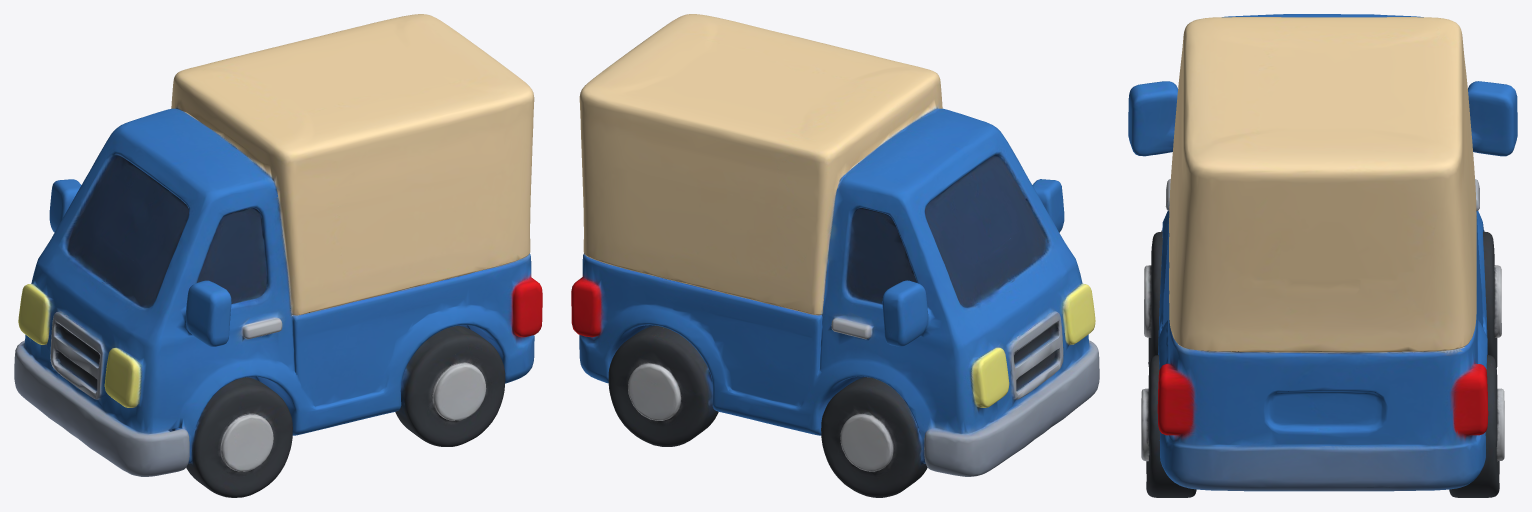
The model's file is carro 4.glb.
The picture shows the model from 3 angles, left to right: view 1: azimuth 30°, elevation 25°; view 2: azimuth 150°, elevation 25°; view 3: azimuth 270°, elevation 25°; orthographic projection. The views are drawn at different scales.
Parts seen in each view (by area): view 1: tripo_node_647e5dc6-84cc-4d92-ac24-7b61ac024a3e; view 2: tripo_node_647e5dc6-84cc-4d92-ac24-7b61ac024a3e; view 3: tripo_node_647e5dc6-84cc-4d92-ac24-7b61ac024a3e.
Boxes of the visible parts, bbox=[...] form: tripo_node_647e5dc6-84cc-4d92-ac24-7b61ac024a3e: bbox=[14, 14, 542, 497]; tripo_node_647e5dc6-84cc-4d92-ac24-7b61ac024a3e: bbox=[571, 14, 1099, 497]; tripo_node_647e5dc6-84cc-4d92-ac24-7b61ac024a3e: bbox=[1128, 14, 1517, 497].
Size of the model in its own units: 1 by 0.7316 by 0.6685.
Materials: 1 (1 with a texture image).
